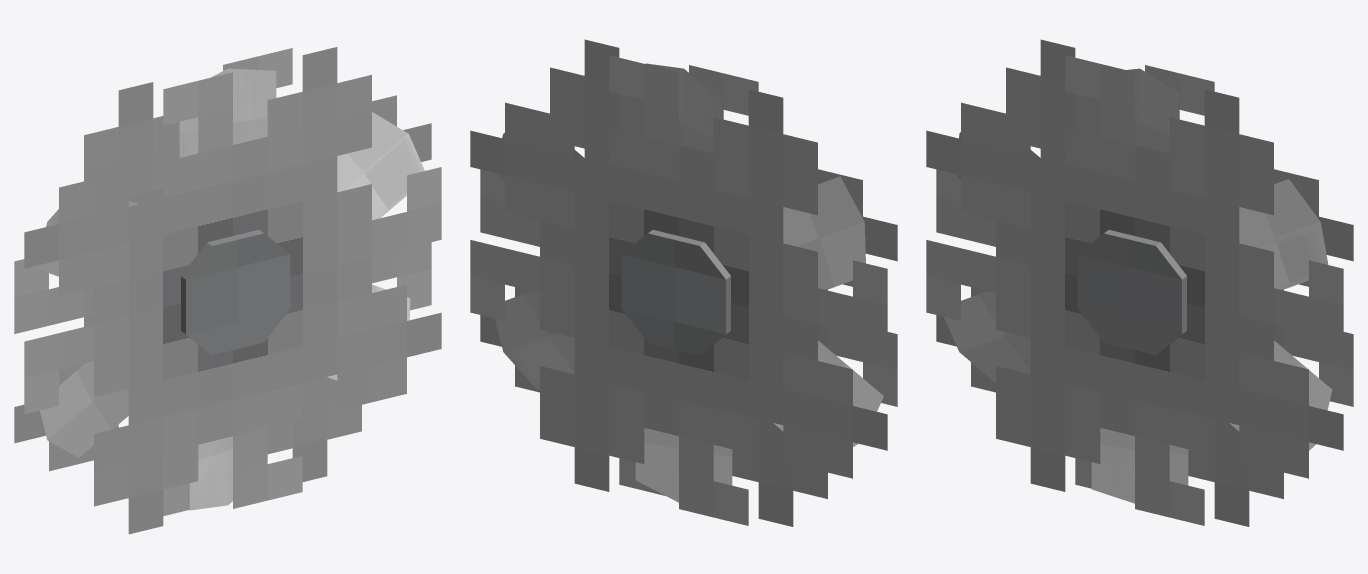
Rendered from fan_old.obj.
The picture shows the model from 3 angles, left to right: view 1: azimuth 30°, elevation 25°; view 2: azimuth 150°, elevation 25°; view 3: azimuth 330°, elevation 25°; orthographic projection.
Visible parts, largest first — view 1: blades_motionblur_translucent, blades, cuboid; view 2: blades_motionblur_translucent, blades, cuboid; view 3: blades_motionblur_translucent, blades, cuboid.
Boxes of the visible parts, box(x1,y1,x2,y2) form: blades_motionblur_translucent: box(14, 47, 441, 534); blades: box(35, 68, 424, 510); cuboid: box(181, 230, 290, 355); blades_motionblur_translucent: box(470, 39, 897, 526); blades: box(495, 63, 883, 502); cuboid: box(621, 230, 730, 355); blades_motionblur_translucent: box(926, 39, 1353, 526); blades: box(944, 68, 1332, 503); cuboid: box(1077, 230, 1186, 355).
Size of the model in its own units: 0.375 by 0.375 by 0.0312.
